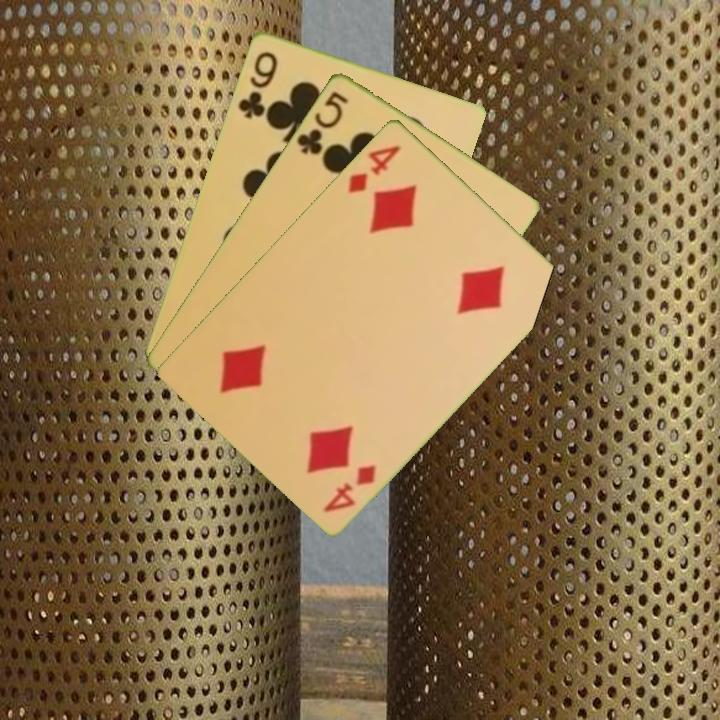4d: (344, 141, 403, 196), (320, 460, 379, 515)
5c: (293, 86, 352, 158)
9c: (234, 47, 281, 121)
